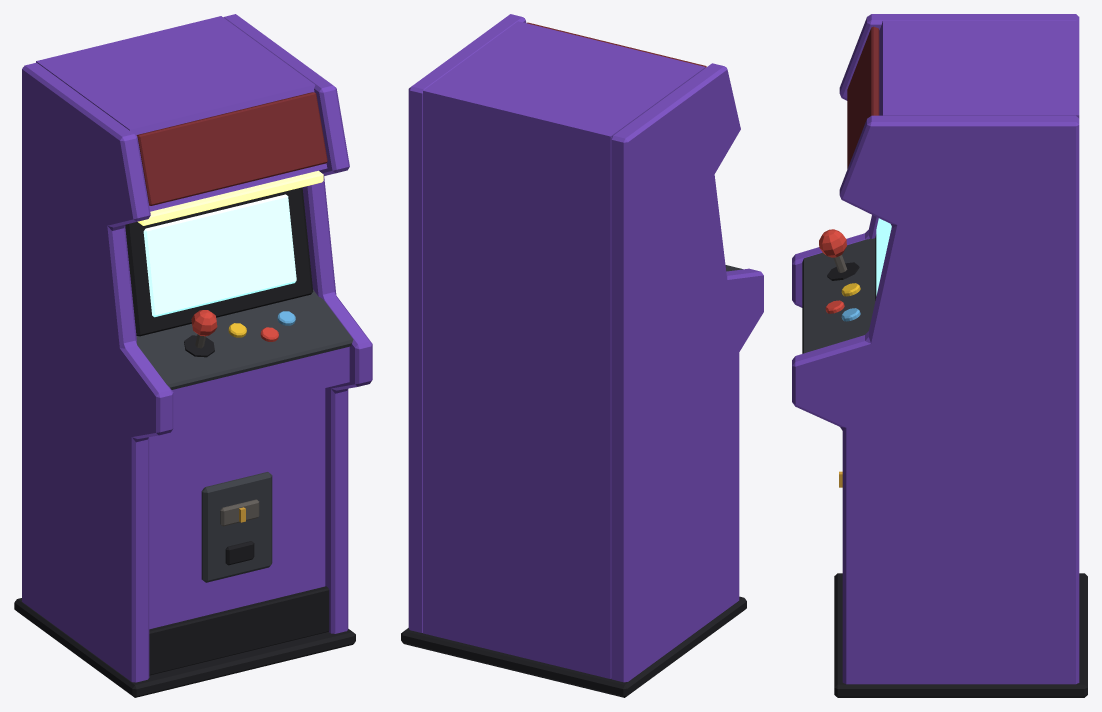
Rendered from mini_arcade_cabinet.glb.
The picture shows the model from 3 angles, left to right: view 1: azimuth 30°, elevation 25°; view 2: azimuth 150°, elevation 25°; view 3: azimuth 270°, elevation 25°; orthographic projection. The views are drawn at different scales.
Parts seen in each view (by area): view 1: mini_arcade_cabinet; view 2: mini_arcade_cabinet; view 3: mini_arcade_cabinet.
Boxes of the visible parts, box(x1,y1,x2,y2) form: mini_arcade_cabinet: box(14, 14, 372, 697); mini_arcade_cabinet: box(401, 14, 763, 697); mini_arcade_cabinet: box(792, 14, 1087, 697).
Size of the model in its own units: 0.4992 by 1.17 by 0.546.
